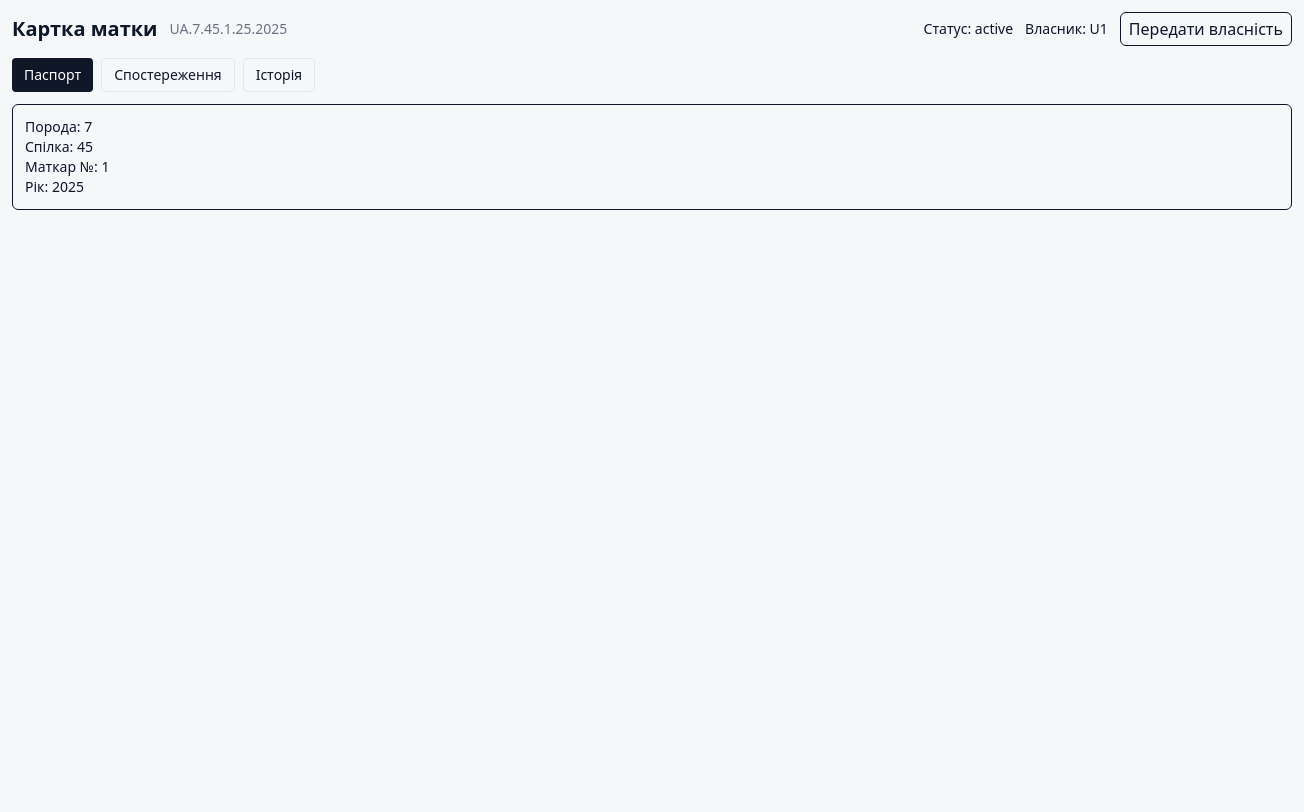
QueenCard page › owner sees observation form
# open Observations tab
Step 1. Click the button "Спостереження" → (168, 75), box [101, 58, 235, 92]
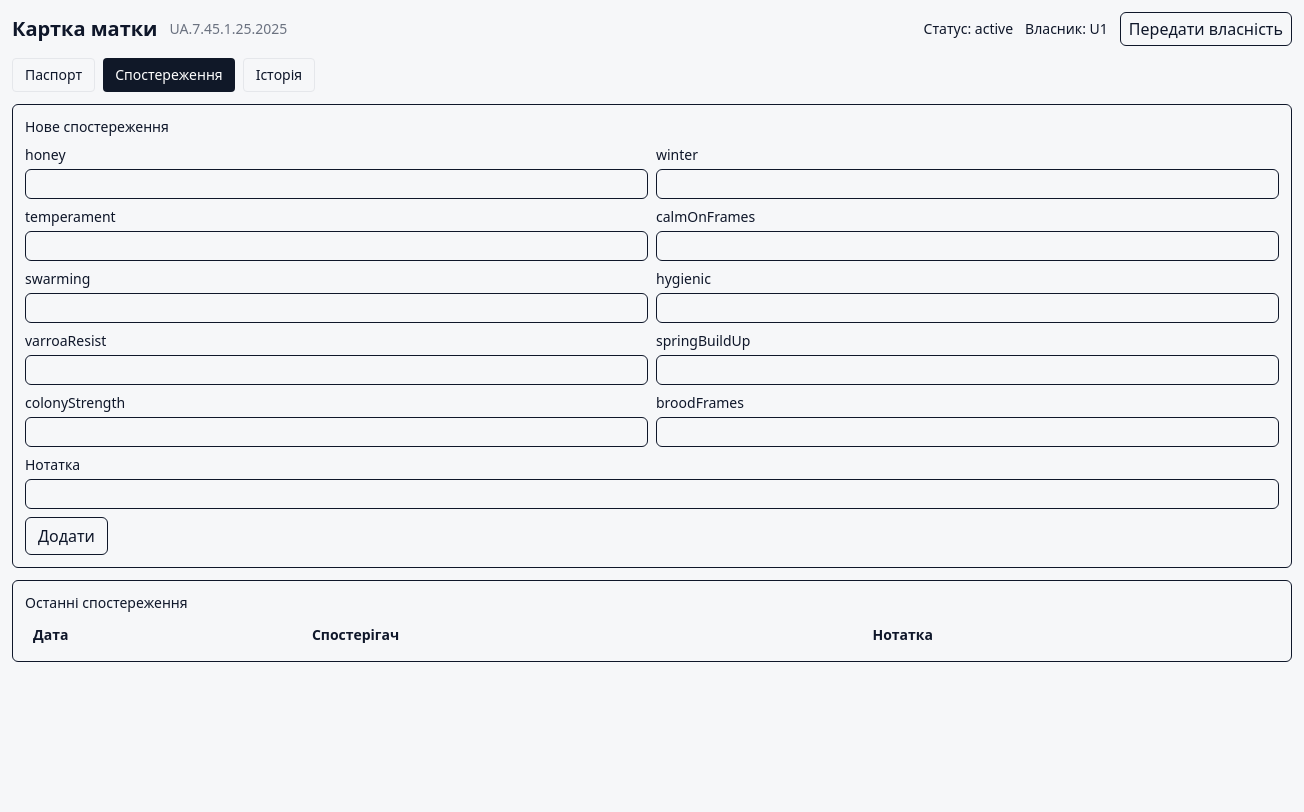
Expected: the number field labelled "honey" is shown, [25, 169, 648, 199]
